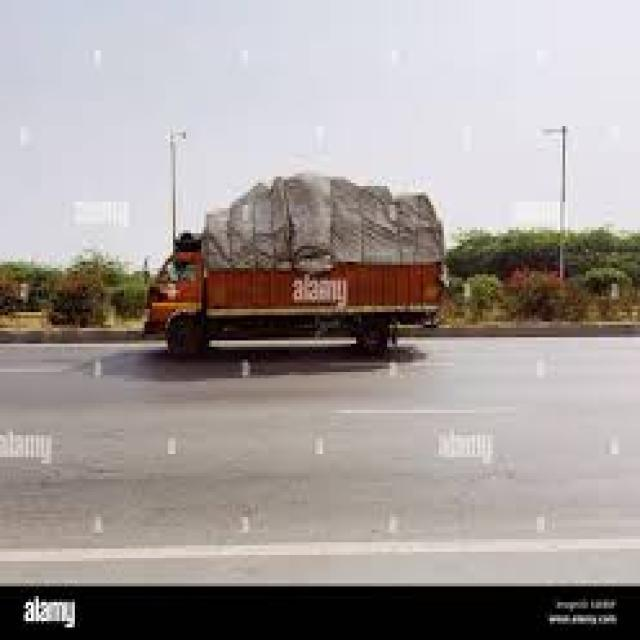uncovered: (146, 172, 442, 364)
